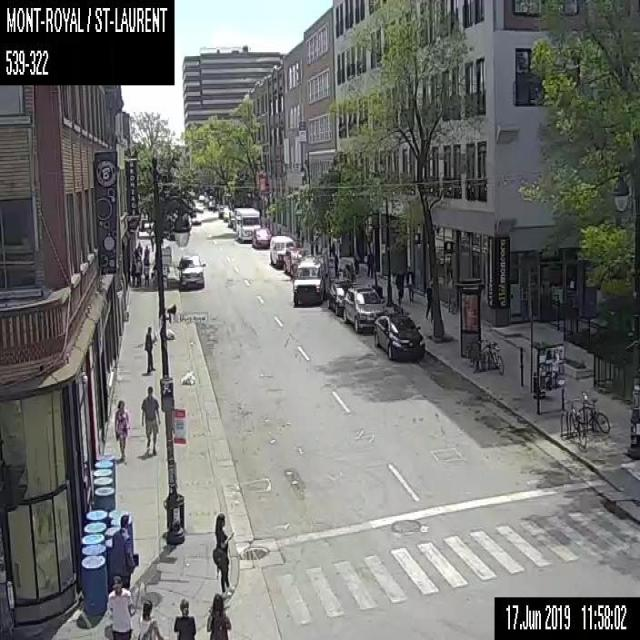pedestrian: (110, 513, 138, 591), (211, 511, 234, 595), (107, 574, 134, 639), (140, 382, 162, 454), (134, 596, 164, 639), (205, 592, 231, 639), (113, 399, 131, 460), (171, 597, 196, 639), (142, 324, 154, 373), (405, 265, 415, 301), (394, 268, 404, 303), (364, 245, 374, 279), (424, 281, 432, 320), (135, 256, 142, 285), (130, 260, 136, 286), (143, 260, 149, 286), (131, 247, 138, 263), (143, 244, 149, 258), (143, 251, 148, 267), (136, 240, 141, 254)
vehicle: (373, 313, 424, 359), (342, 284, 387, 330), (292, 253, 330, 303), (176, 249, 207, 287), (326, 276, 356, 315), (233, 206, 260, 242), (269, 235, 297, 268), (282, 247, 312, 276), (251, 226, 272, 246), (190, 211, 202, 224), (208, 196, 219, 209), (217, 204, 228, 216), (222, 209, 232, 220), (194, 201, 204, 211), (228, 211, 235, 225), (198, 193, 204, 202)
